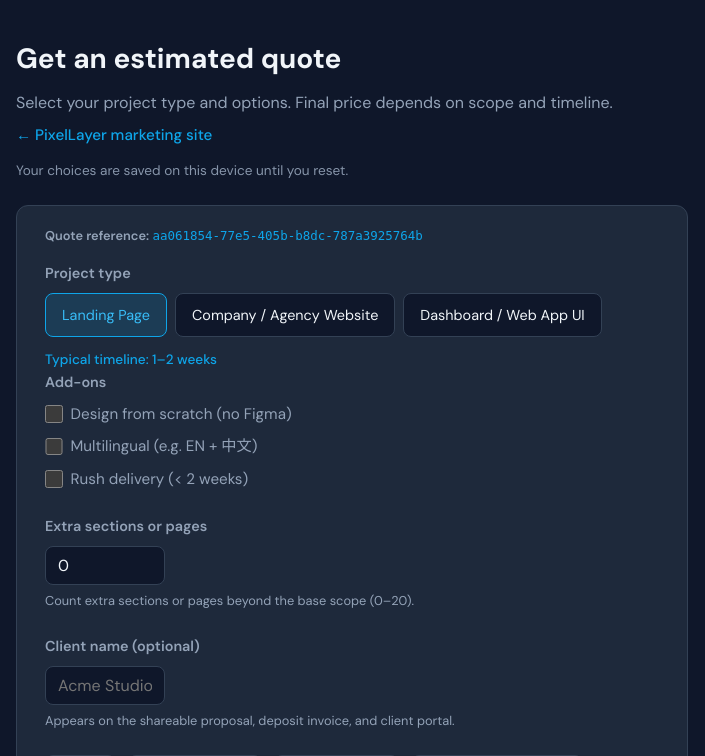
Test: Calculator › updates range when selecting another project type
The width and height of the screenshot is (705, 756).
Click the radio button labelled "Company / Agency Website" at (285, 315), box [175, 293, 395, 337]
(page scrolled)
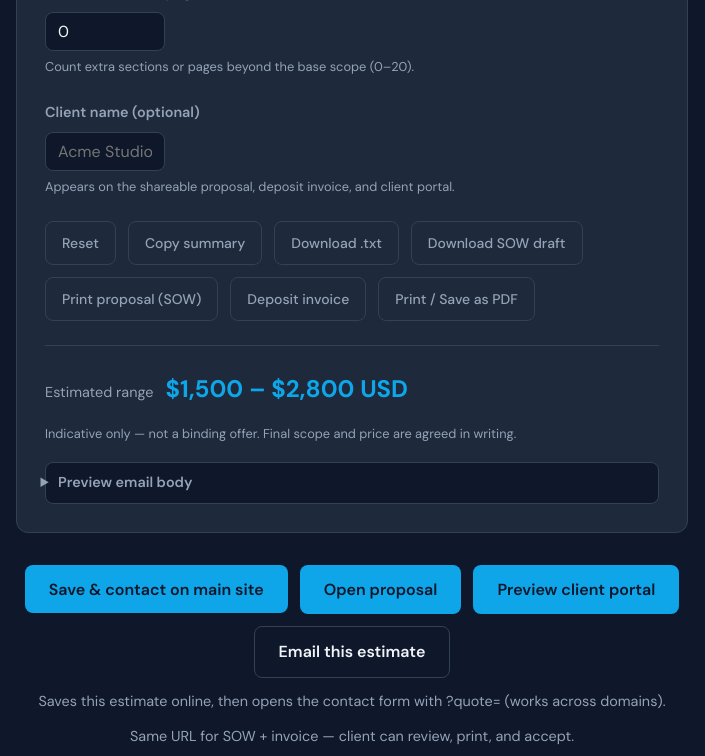
Check: the text with class "calc-result-value" reads "$1,500 – $2,800 USD", box [165, 370, 408, 409]
